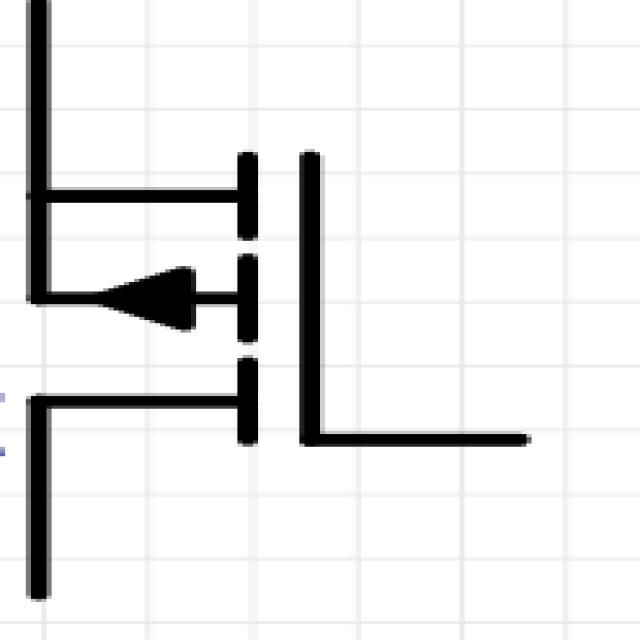pmos: (0, 3, 626, 531)
